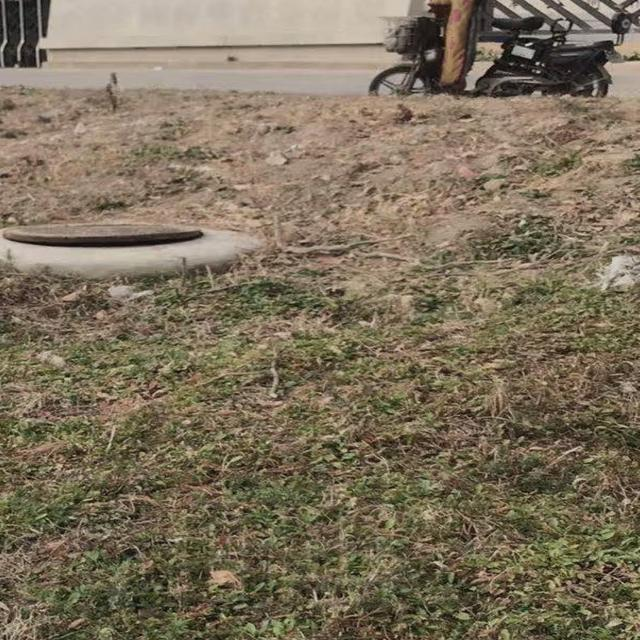uncovered: (0, 224, 203, 251)
